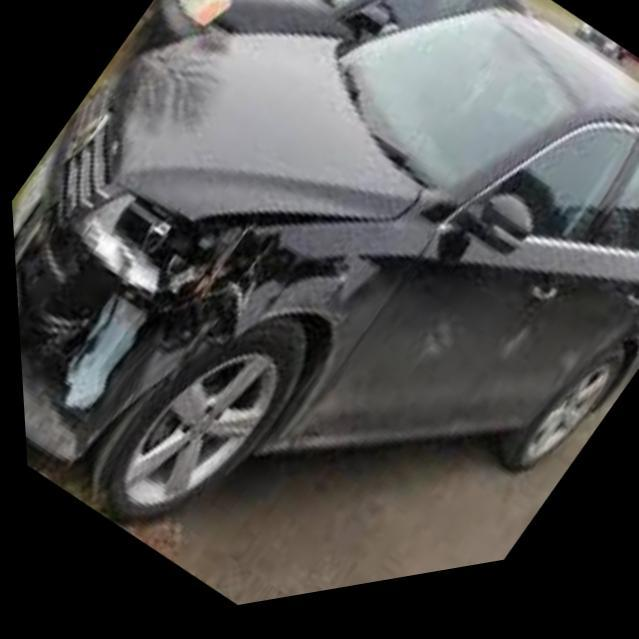no part: (17, 192, 355, 477)
